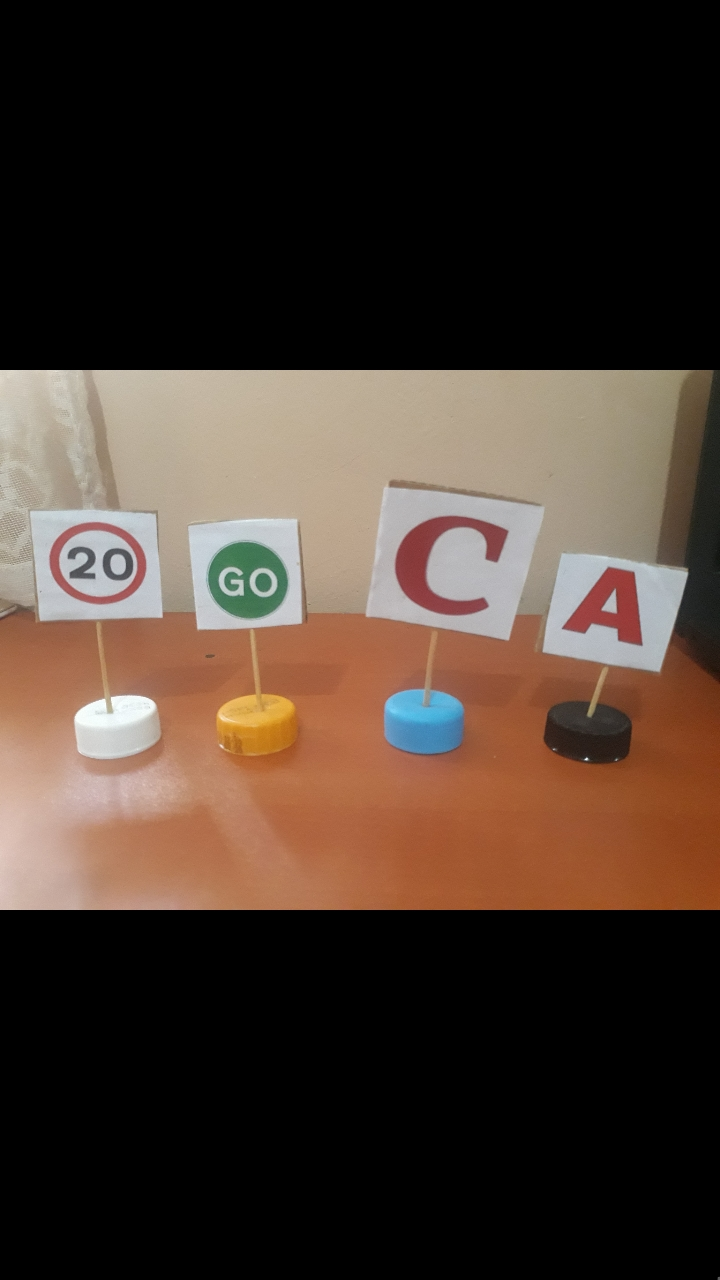20 kph: (34, 504, 165, 619)
go: (195, 529, 302, 633)
zone A: (561, 549, 667, 672)
zone C: (383, 484, 520, 639)
